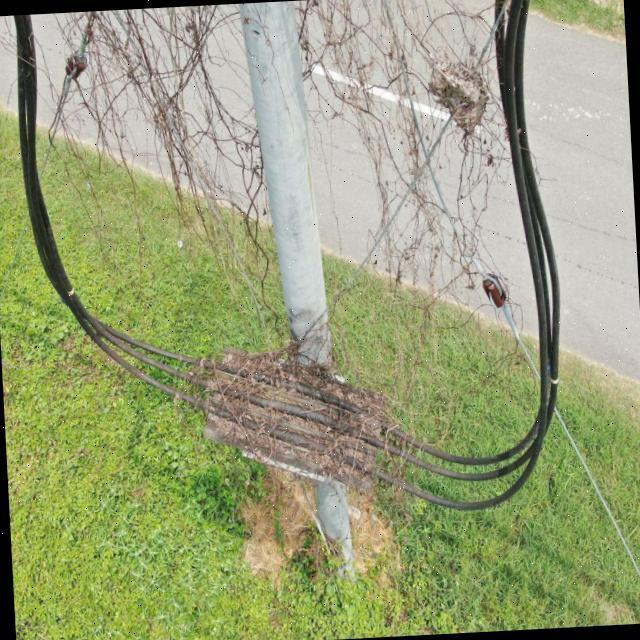critical vegetation: (30, 14, 581, 544)
